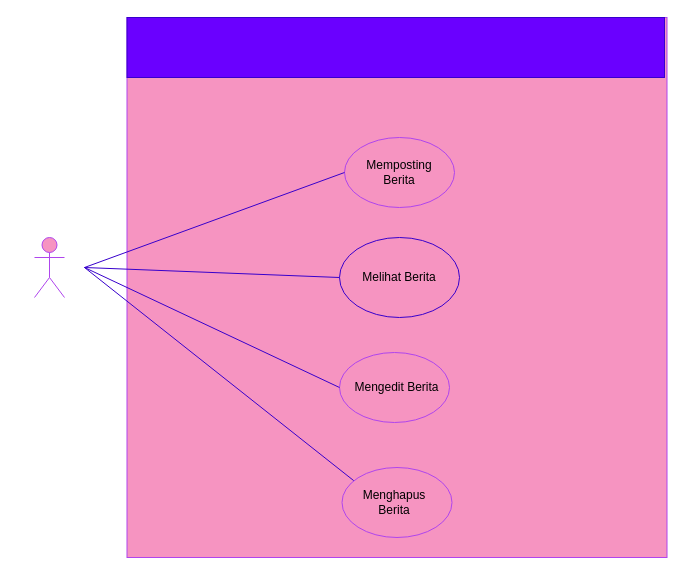
This 685x575 diagram has some shape labels left out. The shapes that lost their labels are listed below. From the top down, each one's box as (x1, y1, x2, y2) in pixels, then its label:
(126, 16, 664, 78): USE CASE SISTEM APLIAKSI WEBSITE PROFILE SCENARIO BERITA
(34, 236, 64, 298): Admin TVRI
